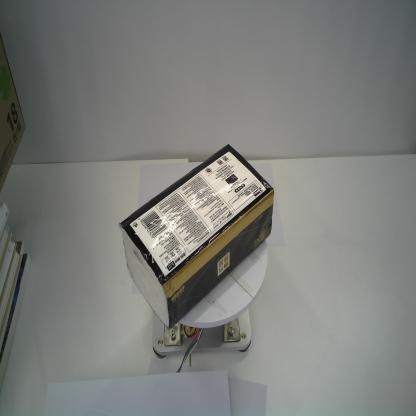Tissue: (118, 141, 275, 331)
